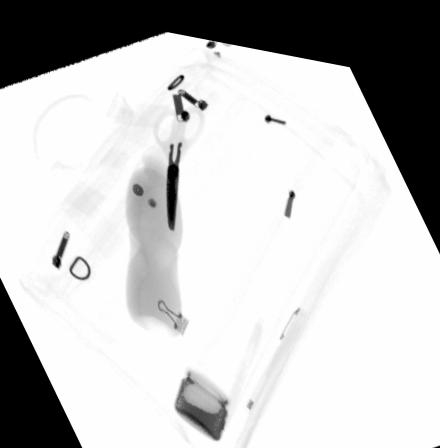Scissors: (146, 83, 205, 225)
